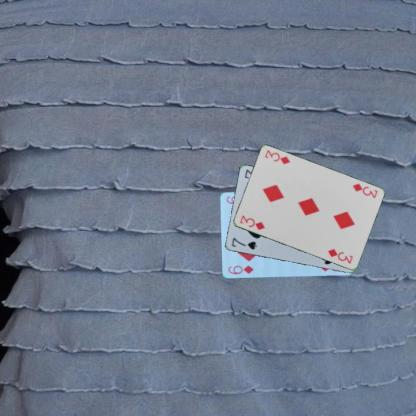3d: (350, 181, 378, 200), (237, 213, 266, 231)
6d: (225, 263, 254, 275)
7s: (228, 235, 258, 251)
